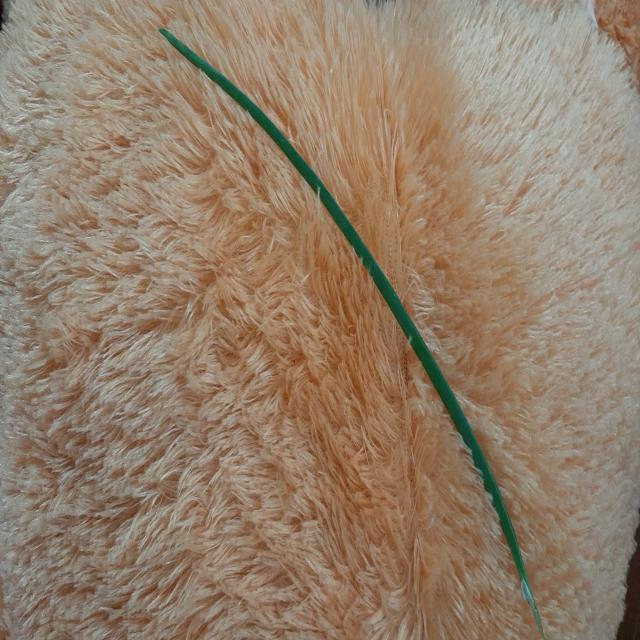onion: (160, 27, 544, 637)
